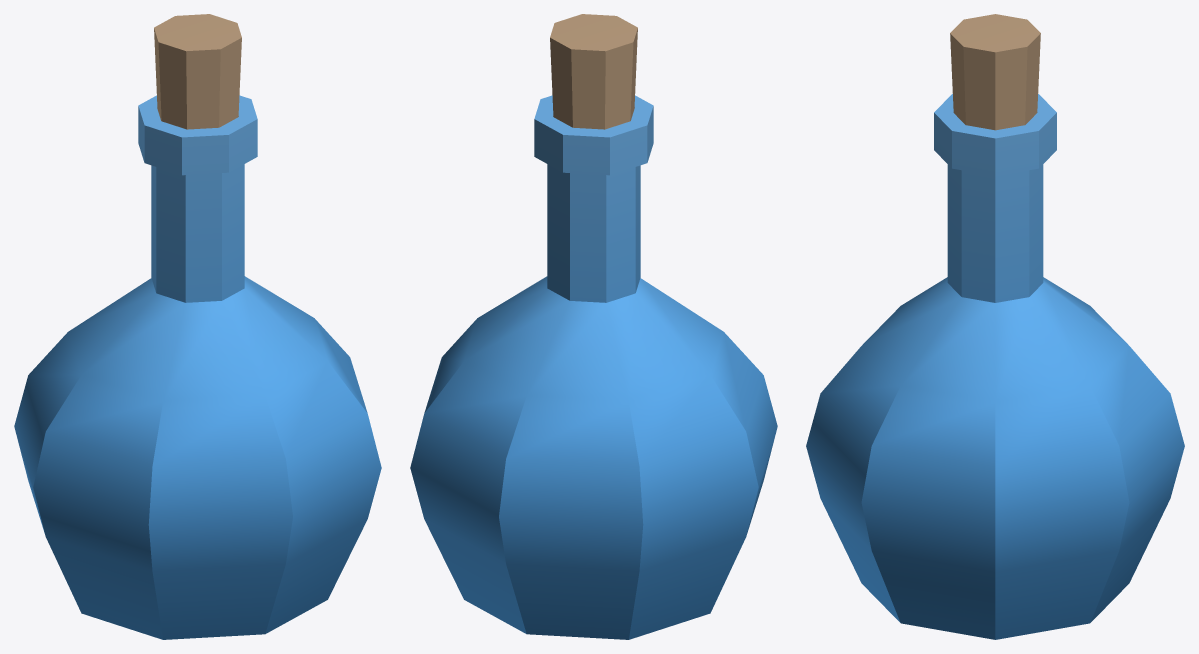
The model's file is Bottle_03.fbx.
3 views of the same model, side by side, from view 1: azimuth 30°, elevation 25°; view 2: azimuth 150°, elevation 25°; view 3: azimuth 270°, elevation 25° (orthographic).
Visible parts, largest first — view 1: Bottle_03_LOD0; view 2: Bottle_03_LOD0; view 3: Bottle_03_LOD0.
Part boxes in pixels (bbox=[...]): Bottle_03_LOD0: bbox=[14, 14, 381, 639]; Bottle_03_LOD0: bbox=[410, 14, 777, 639]; Bottle_03_LOD0: bbox=[806, 14, 1184, 639].
Size of what is drawn, in the model's own units: 0.1558 by 0.2498 by 0.1558.
